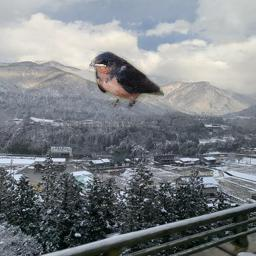Swallow: (89, 51, 164, 109)
